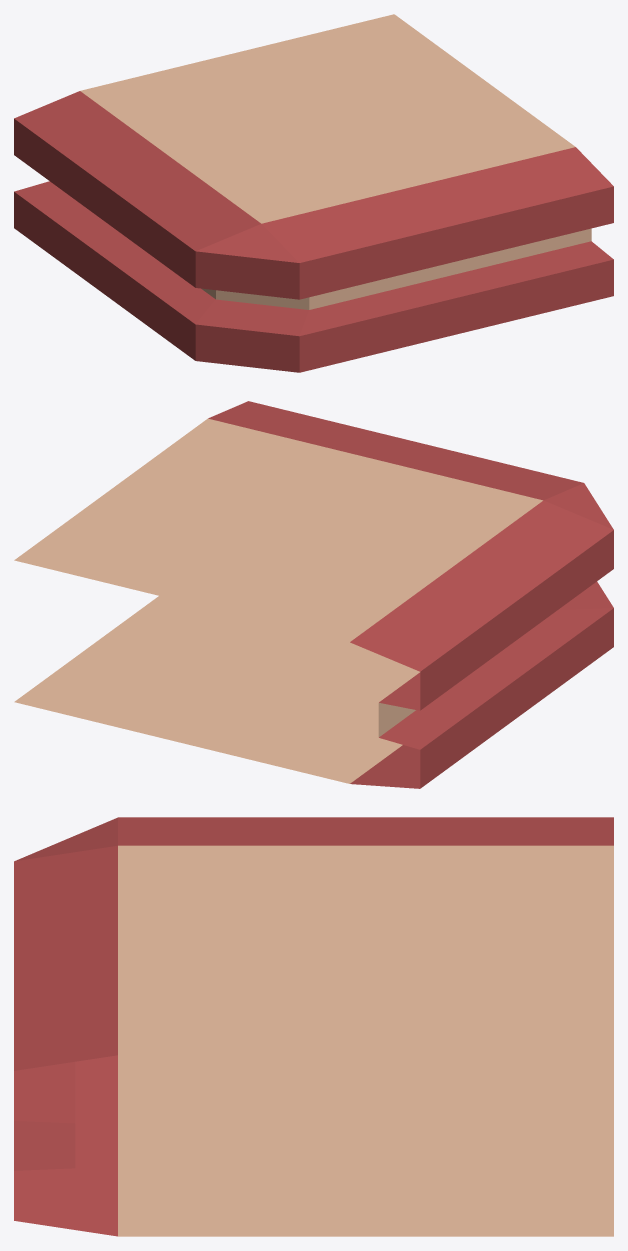
File: SquarePlatformCorner.fbx
3 views of the same model, one above another, from view 1: azimuth 30°, elevation 25°; view 2: azimuth 150°, elevation 25°; view 3: azimuth 270°, elevation 25° (orthographic). The views are drawn at different scales.
Parts seen in each view (by area): view 1: Cube; view 2: Cube; view 3: Cube.
Part boxes in pixels (left/top/right/bottom): Cube: left=14, top=14, right=613, bottom=372; Cube: left=14, top=401, right=613, bottom=788; Cube: left=14, top=817, right=613, bottom=1236.
Size of the model in its own units: 300 by 100 by 300.
